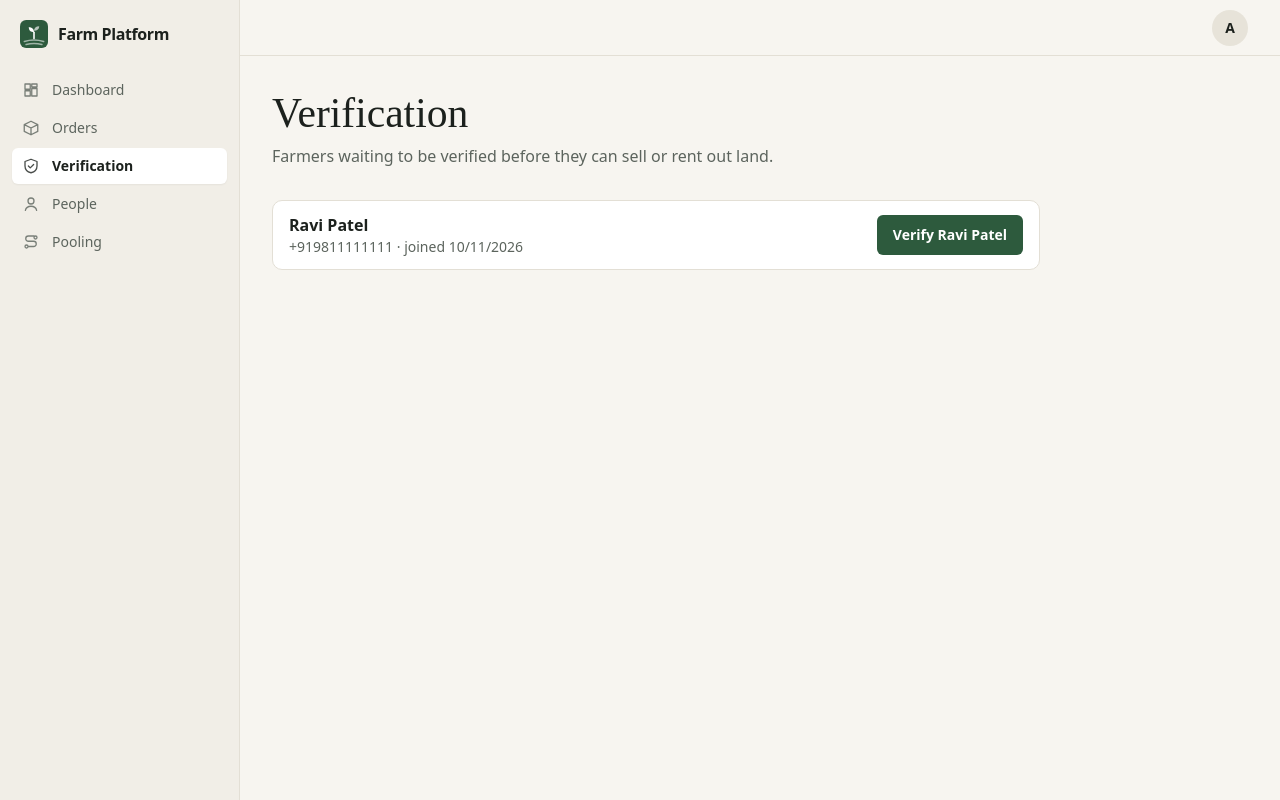
Test: farmer verification › lists waiting farmers and verifies one
This screenshot has width=1280, height=800.
Click the button "Verify Ravi Patel".
click(950, 235)  # box [877,215,1023,255]
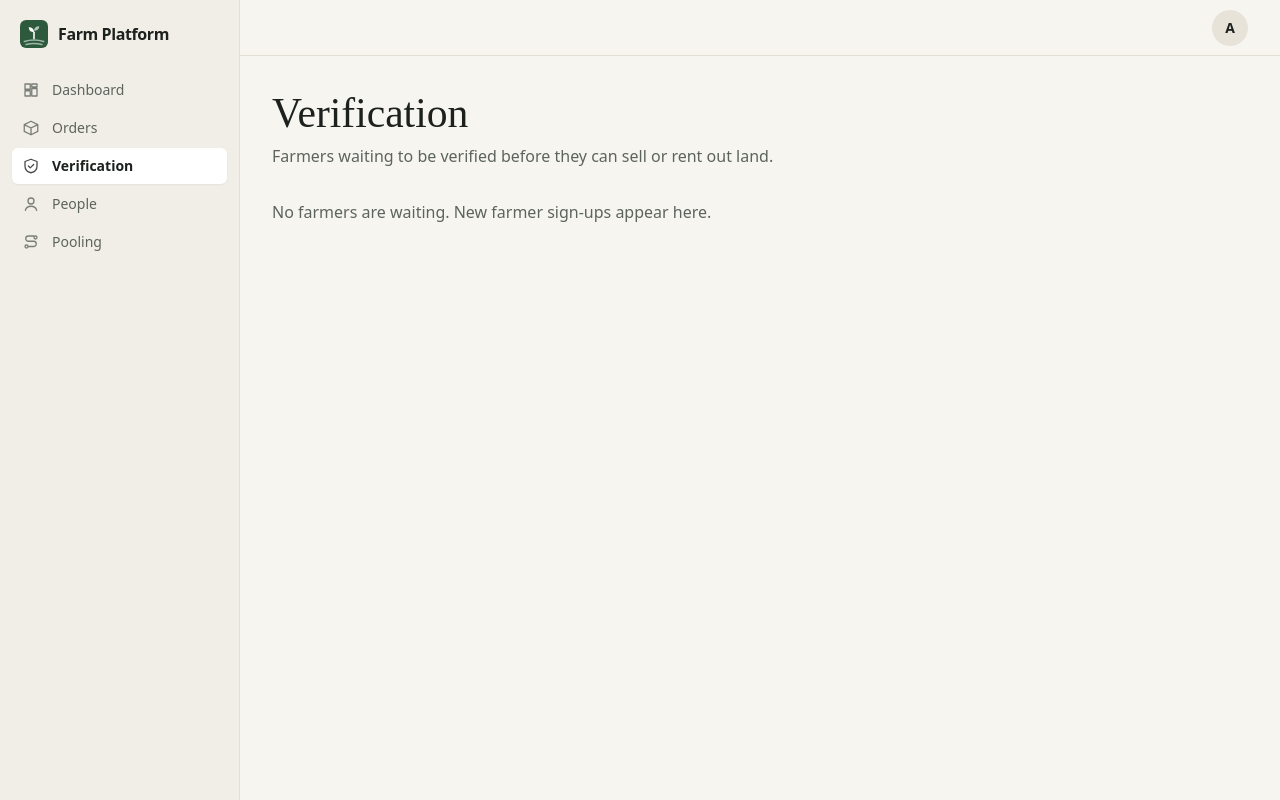
Now the text "No farmers are waiting. New farmer sign-ups appear here." is shown, box [272,201,711,223]
